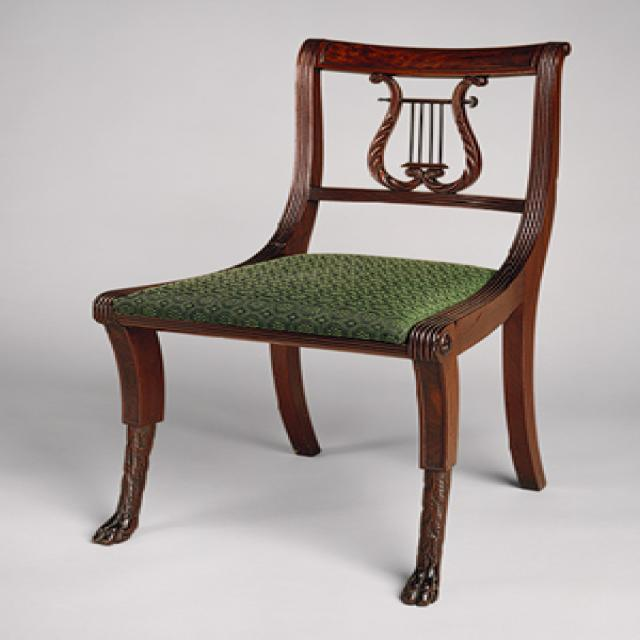chair: (87, 36, 572, 606)
